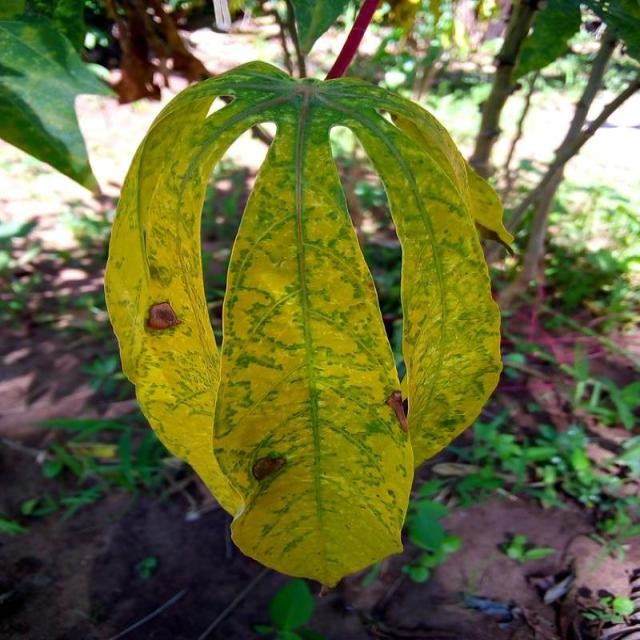cassava leaf: (103, 58, 514, 588)
